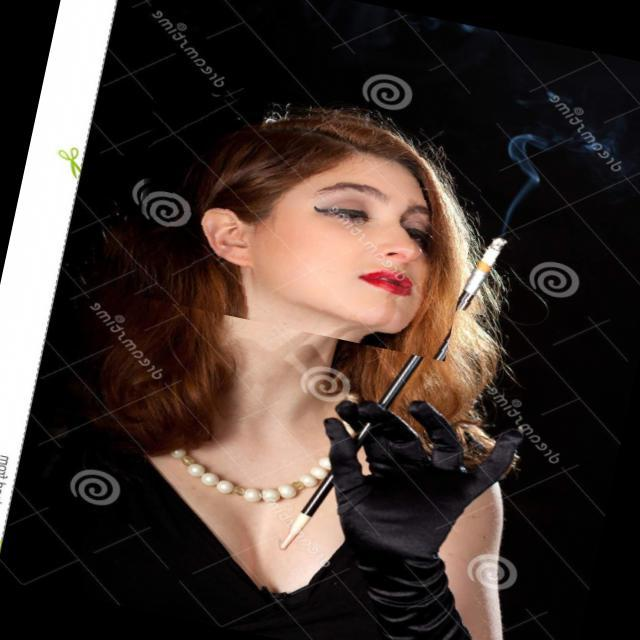cigarette: (414, 212, 518, 320)
